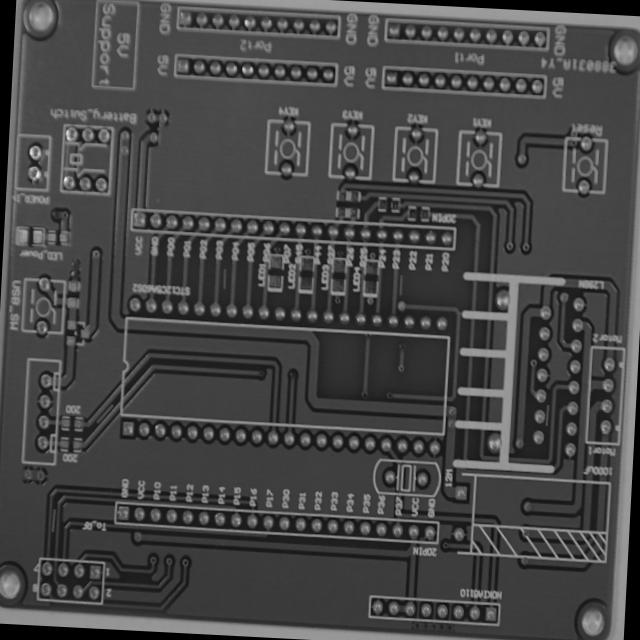spurious_copper: (394, 268, 408, 300), (94, 402, 114, 424), (46, 506, 60, 536), (218, 265, 232, 293), (542, 401, 554, 431)
